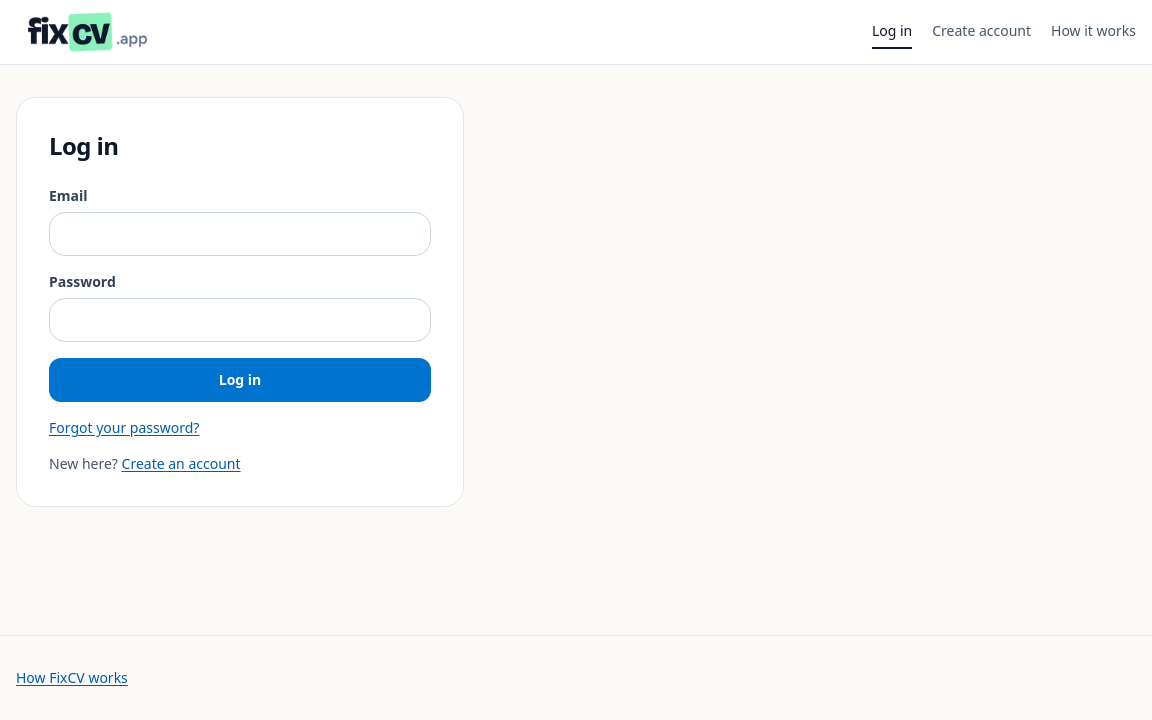
Test: /admin — AC-32 › a plain user who logs in lands on the not-found view
Type "a@example.com" into the field labelled "Email" at (240, 234), box [49,212,431,256]
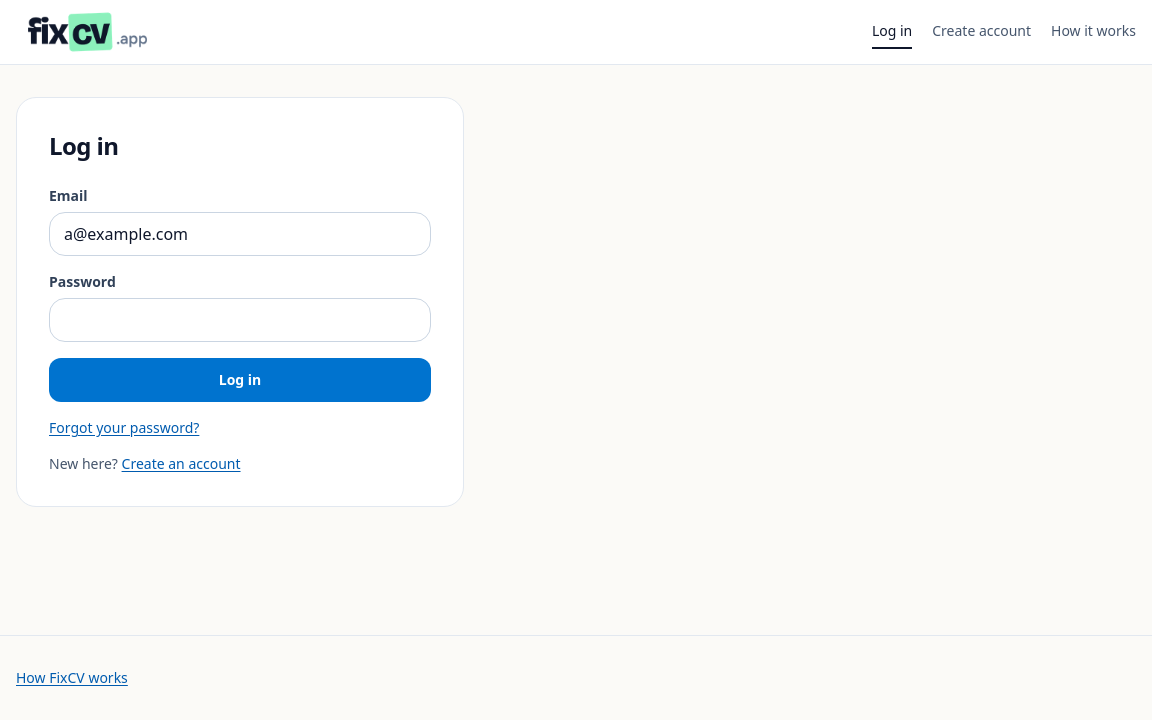
Type "a very long real password" into the password field labelled "Password" at (240, 320), box [49,298,431,342]
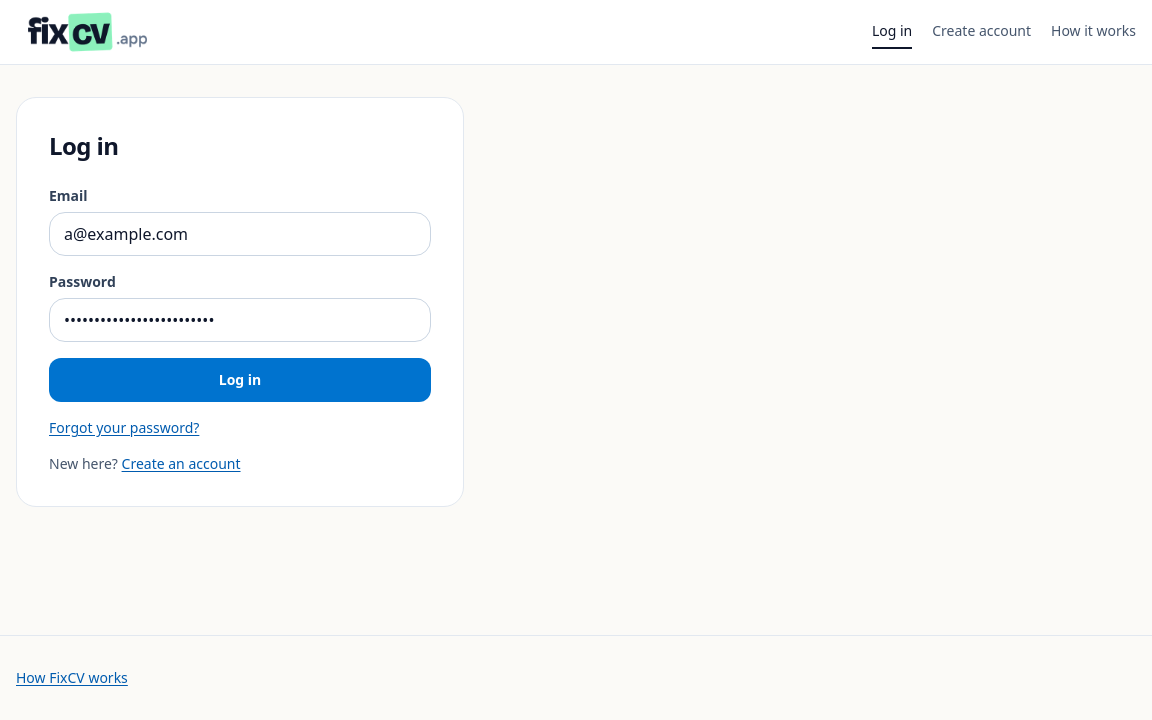
Click the button "Log in" at (240, 380), box [49,358,431,402]
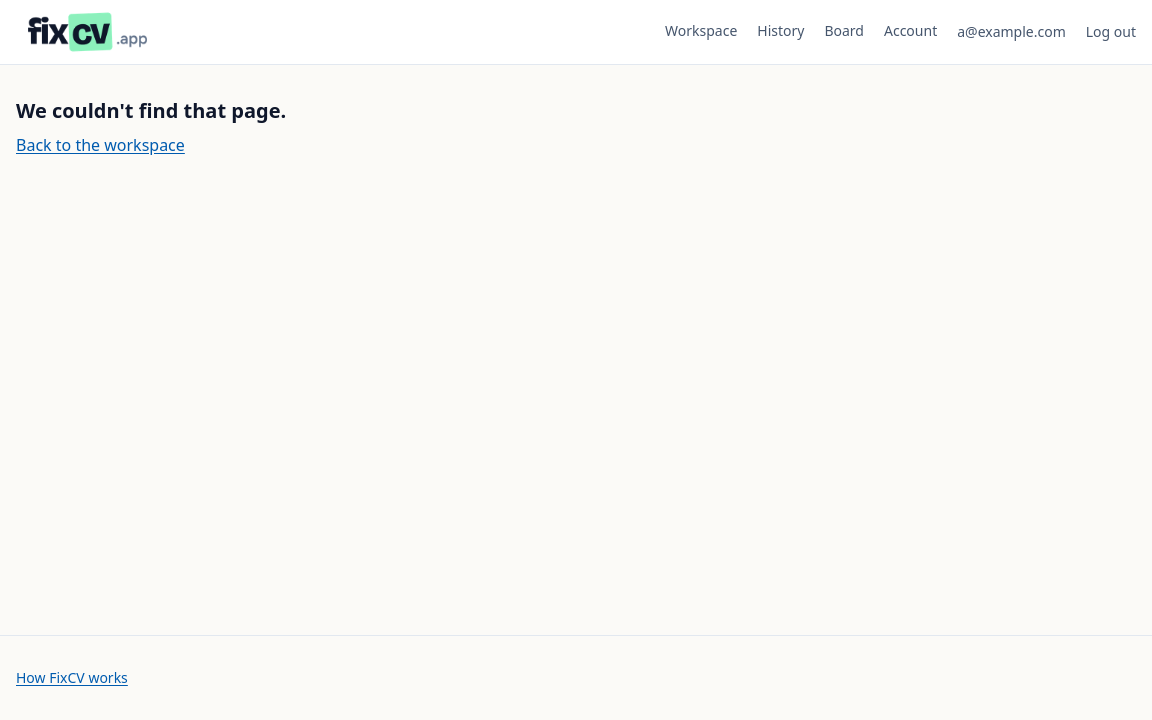
expect the heading "We couldn't find that page." is shown: met, box [16,97,286,124]
